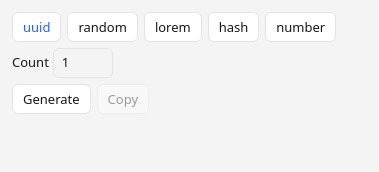
Test: Generators number tab › shows an error when min > max
Click the button "number".
click(301, 27)  # box [265,12,336,42]
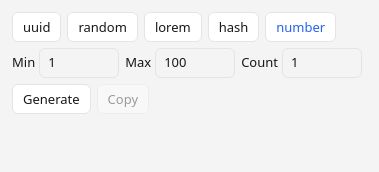
Replace the text in the number field labelled "Min" with "9" at (79, 63), box [39,48,119,78]
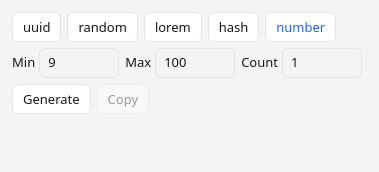
Replace the text in the number field labelled "Max" with "1" at (195, 63), box [155,48,235,78]
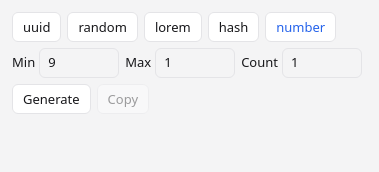
Click the button "Generate".
click(51, 98)  # box [12,84,91,114]
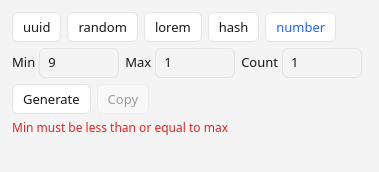
Expected: the text "Min must be less than or equal to max" is shown, [12,118,228,136]
